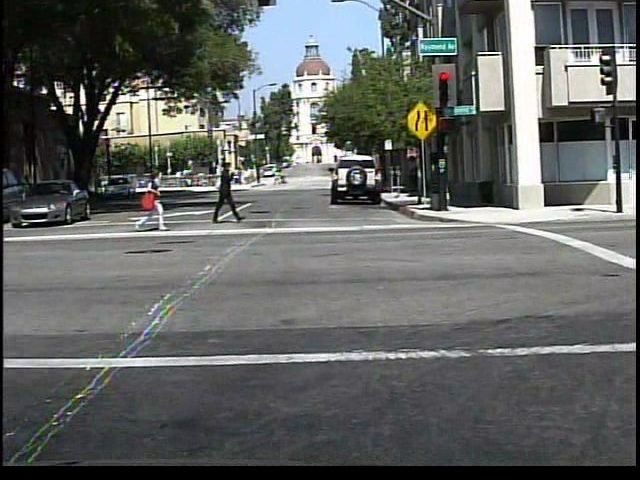person: (130, 161, 167, 235), (203, 158, 242, 226), (271, 168, 281, 188), (279, 169, 286, 188)
